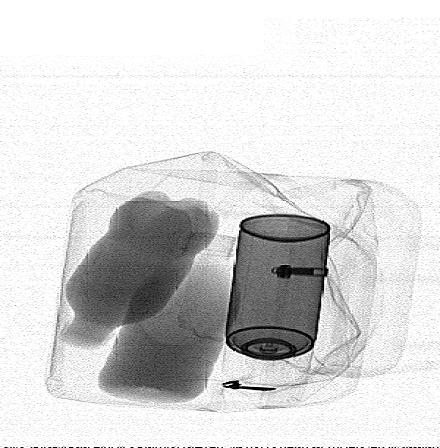Sprayer: (222, 214, 330, 386)
